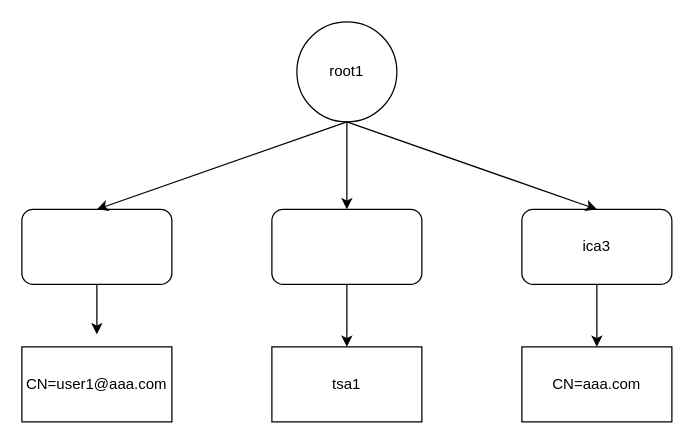
The diagram is 694 pixels wide and 444 high, and some of its shapes have lost their labels. The centre of each missing label's shape, as x and y in pixels:
ica1: (96,246)
ica2: (346,246)
